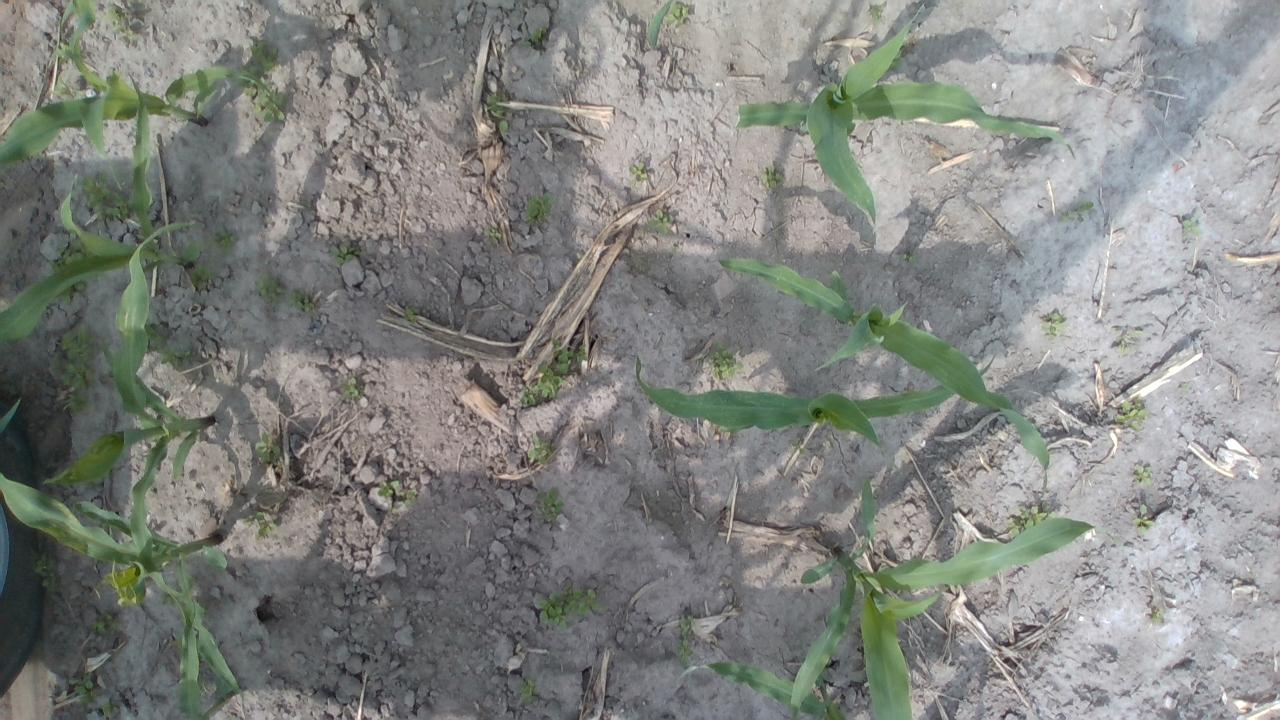Maize: (718, 258, 1052, 498), (739, 1, 1078, 236), (788, 476, 1096, 720), (40, 218, 218, 608), (0, 472, 250, 720), (0, 71, 203, 347), (0, 0, 279, 173), (634, 354, 996, 448), (172, 560, 248, 720), (706, 659, 848, 720)
Weeds: (519, 339, 592, 409), (237, 42, 286, 124), (56, 325, 95, 410), (534, 585, 600, 632), (78, 174, 132, 224), (144, 324, 194, 370), (1005, 502, 1058, 540), (105, 8, 142, 50), (706, 342, 744, 382), (379, 480, 418, 514), (522, 192, 554, 229), (534, 487, 566, 521), (675, 614, 696, 664), (244, 511, 280, 540), (1116, 400, 1148, 431), (526, 434, 556, 466), (486, 94, 511, 130), (1112, 328, 1144, 356), (38, 552, 59, 592), (1132, 503, 1156, 535), (71, 678, 97, 706), (252, 438, 280, 464), (759, 164, 785, 192), (646, 208, 672, 236), (1041, 312, 1069, 338), (1058, 202, 1094, 222), (664, 0, 690, 27), (54, 77, 82, 101), (258, 280, 284, 304), (522, 26, 548, 49), (290, 292, 316, 314), (484, 220, 504, 248), (1133, 465, 1155, 488), (1181, 216, 1204, 238), (331, 246, 359, 264), (518, 677, 538, 702), (628, 161, 650, 183), (192, 266, 212, 290), (90, 616, 114, 633), (868, 2, 887, 23), (217, 231, 237, 249), (344, 378, 362, 397), (1149, 608, 1164, 626), (404, 306, 418, 324), (899, 253, 918, 265)
